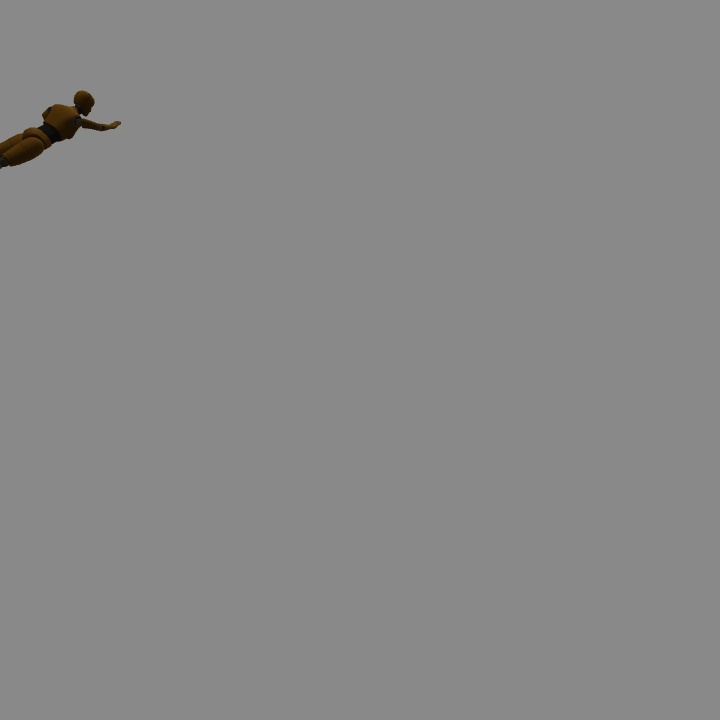victim: (1, 88, 121, 169)
